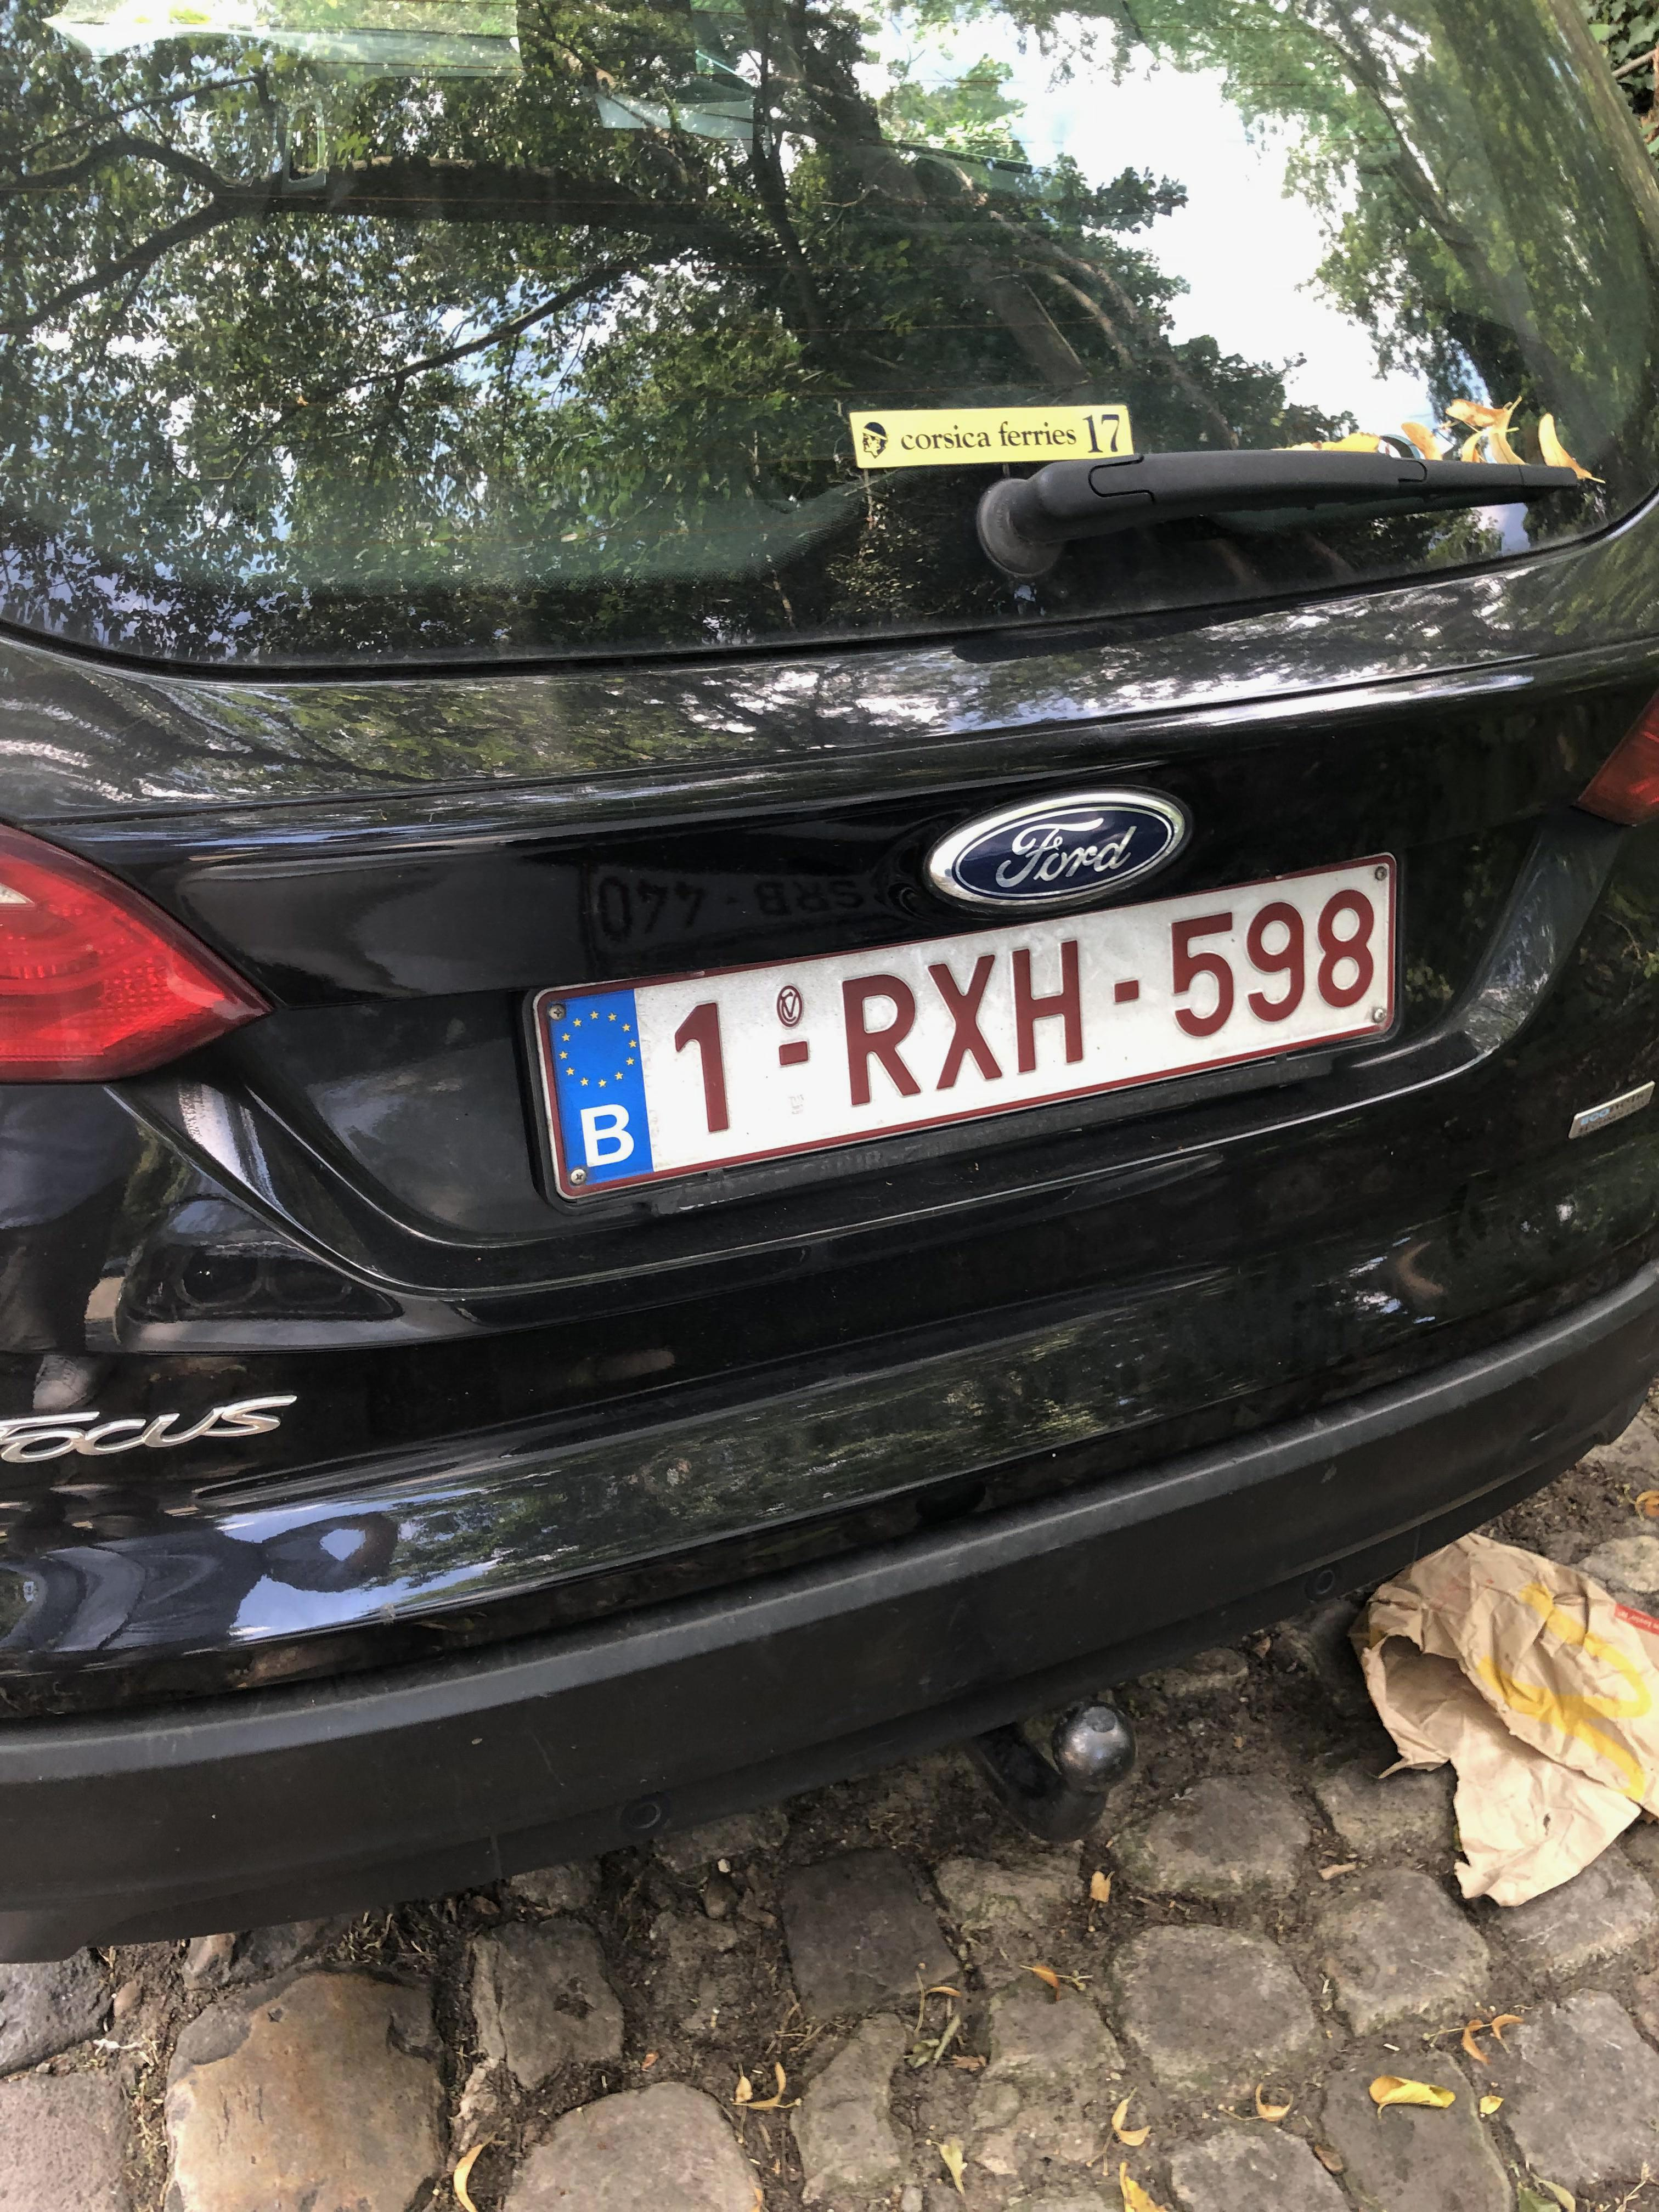plate: (496, 828, 1426, 1226)
